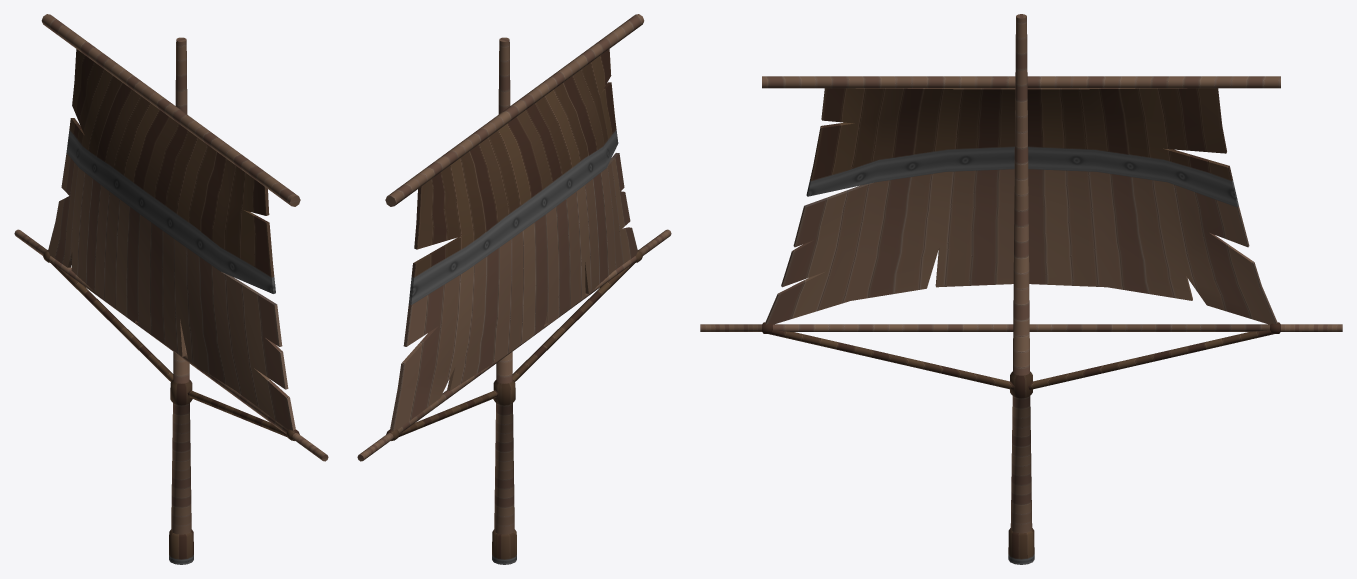
Rendered from Enemy Sails.fbx.
The picture shows the model from 3 angles, left to right: view 1: azimuth 30°, elevation 25°; view 2: azimuth 150°, elevation 25°; view 3: azimuth 270°, elevation 25°; orthographic projection. The views are drawn at different scales.
Visible parts, largest first — view 1: E_Mast; view 2: E_Mast; view 3: E_Mast.
Part boxes in pixels (<box>): E_Mast: <box>14,14,328,564</box>; E_Mast: <box>357,14,671,564</box>; E_Mast: <box>700,14,1342,564</box>.
Size of the model in its own units: 282 by 2571 by 2756.
